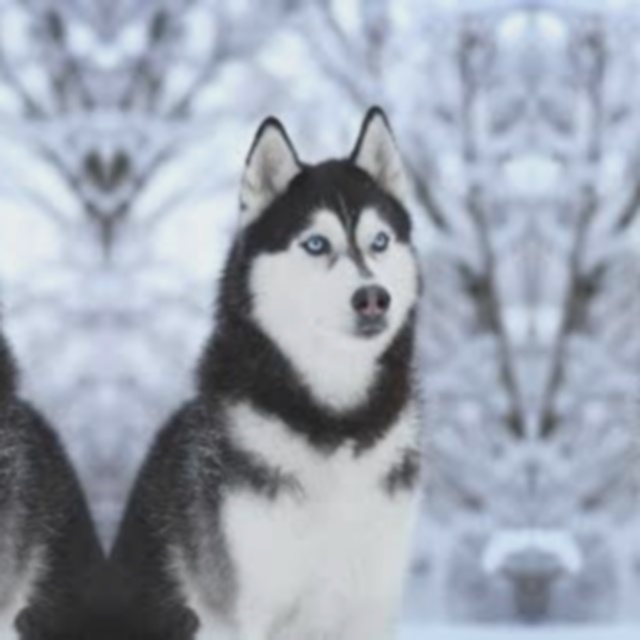dog: (108, 78, 464, 640), (0, 78, 108, 640), (602, 78, 640, 640)
